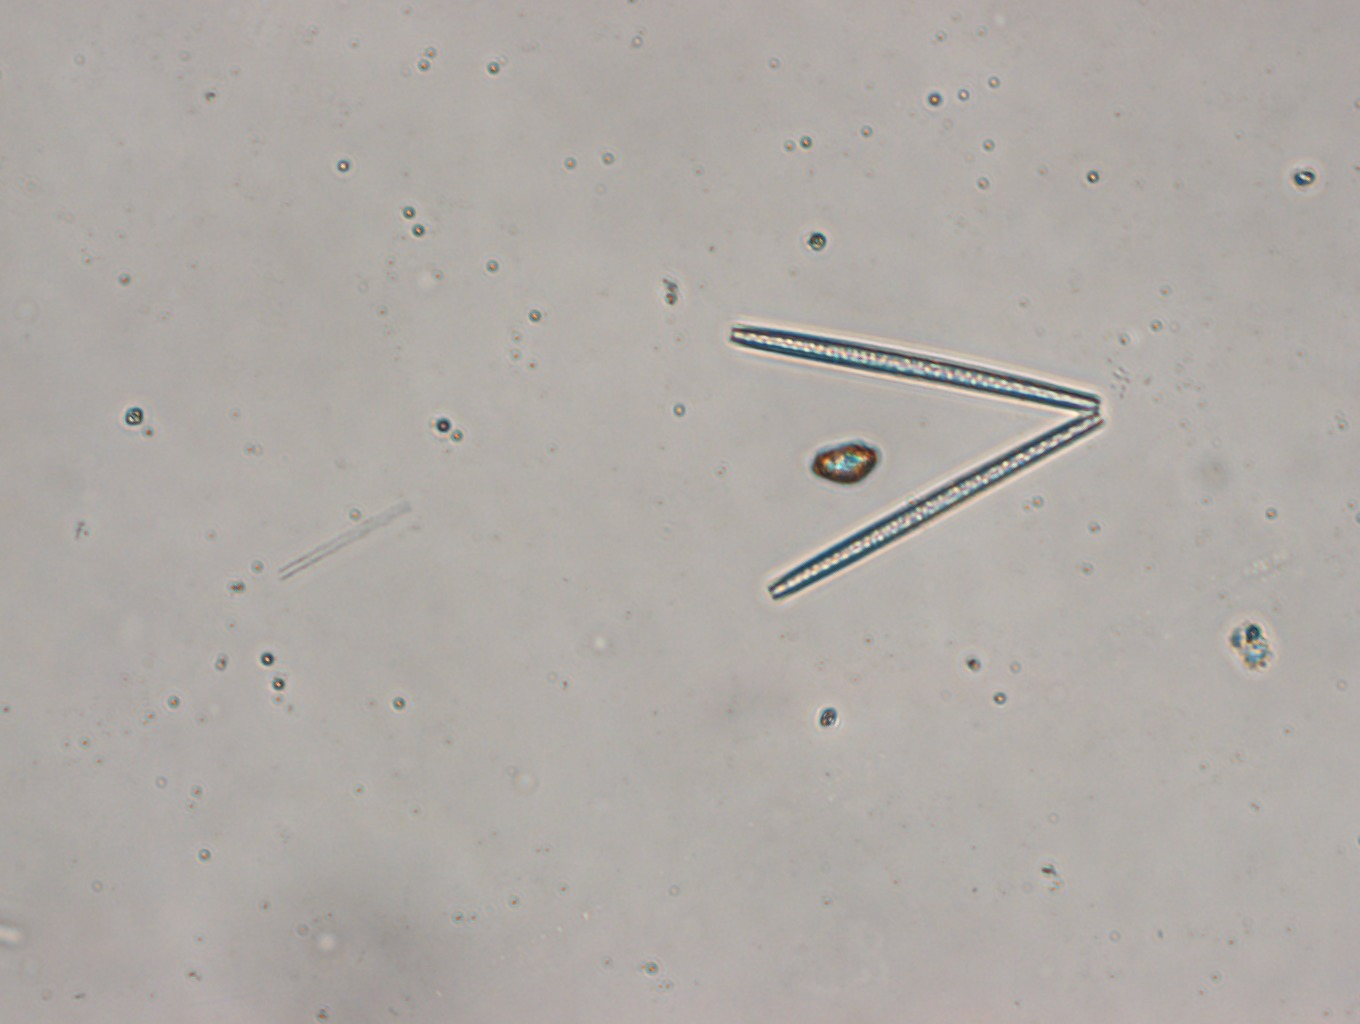thalassionema frauenfeldii: (722, 319, 1108, 602)
